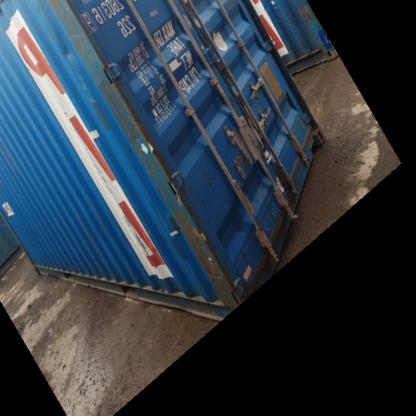Damage: (87, 57, 168, 178), (161, 169, 231, 306), (49, 2, 101, 60), (255, 180, 280, 245)
